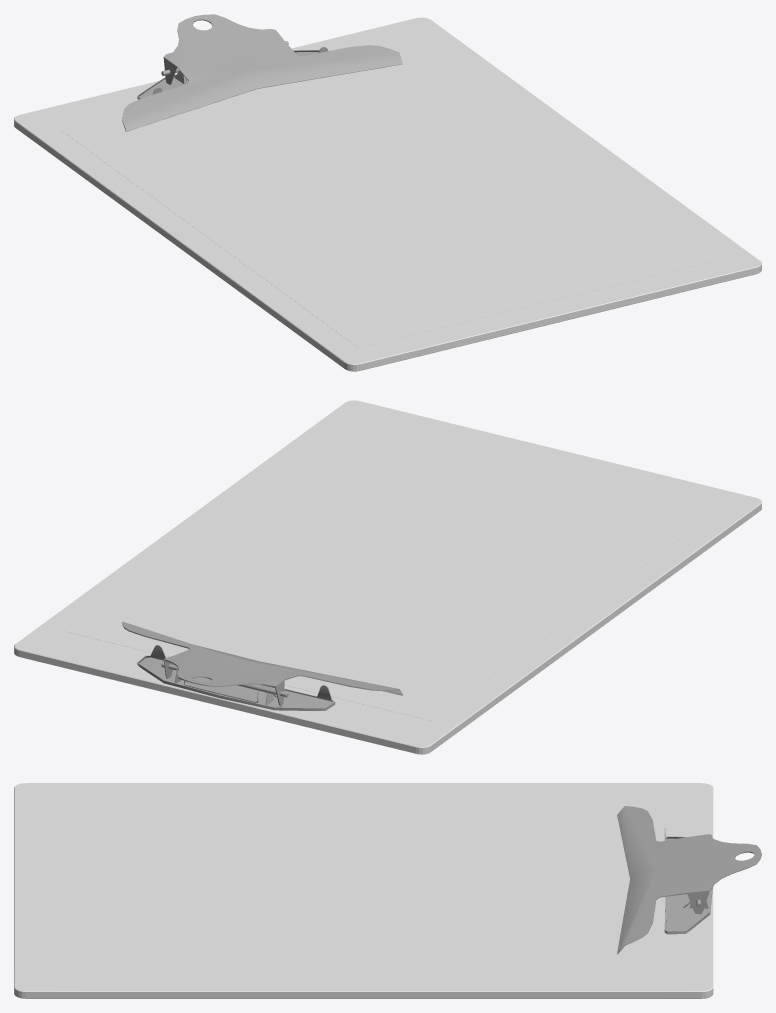
The model's file is prologueclipboard1.fbx.
3 renders of one model, top to bottom at view 1: azimuth 30°, elevation 25°; view 2: azimuth 150°, elevation 25°; view 3: azimuth 270°, elevation 25°, orthographic. The views are drawn at different scales.
Visible parts, largest first — view 1: page, Board, Clip; view 2: page, Board, Clip; view 3: page, Board, Clip.
Part boxes in pixels (x1,y1,x2,y2): page: (61,40,727,347); Board: (14,17,761,371); Clip: (122,14,402,131); page: (61,413,727,720); Board: (14,400,761,754); Clip: (122,621,402,710); page: (44,792,654,977); Board: (14,783,713,998); Clip: (617,806,761,953).
Bounding box in the file's own units: 89.12 × 8.26 × 135.
2 materials, 1 textured.
